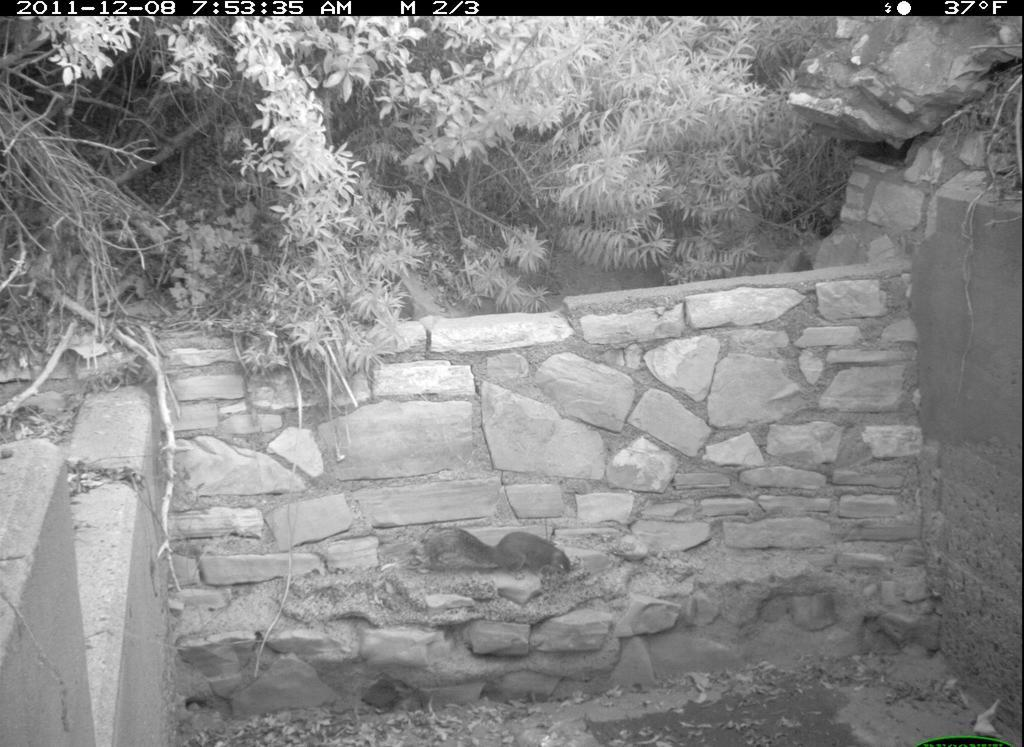squirrel: (420, 516, 585, 589)
